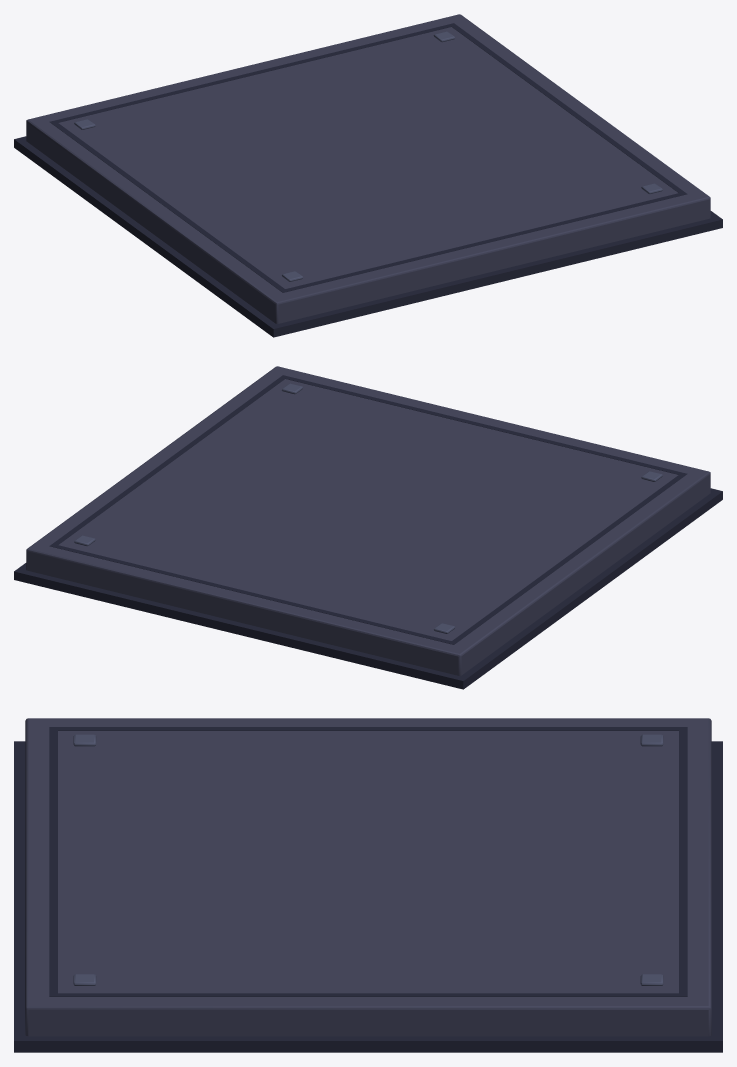
The model's file is floor.square.plate.glb.
The picture shows the model from 3 angles, top to bottom: view 1: azimuth 30°, elevation 25°; view 2: azimuth 150°, elevation 25°; view 3: azimuth 270°, elevation 25°; orthographic projection. The views are drawn at different scales.
Visible parts, largest first — view 1: GEO-floor.square.plate; view 2: GEO-floor.square.plate; view 3: GEO-floor.square.plate.
Boxes of the visible parts, x1,y1,x2,y2 form: GEO-floor.square.plate: (14, 14, 722, 337); GEO-floor.square.plate: (14, 366, 722, 689); GEO-floor.square.plate: (14, 718, 722, 1052).
Size of the model in its own units: 1 by 0.069 by 1.
